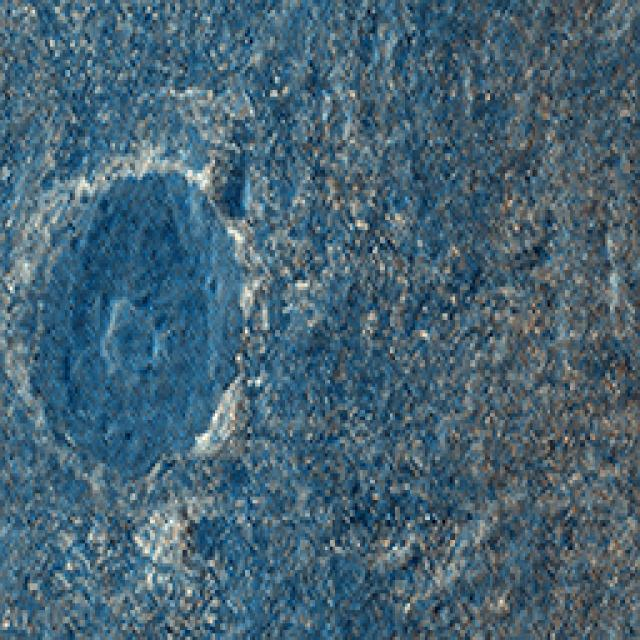Crater: (0, 143, 330, 577)
